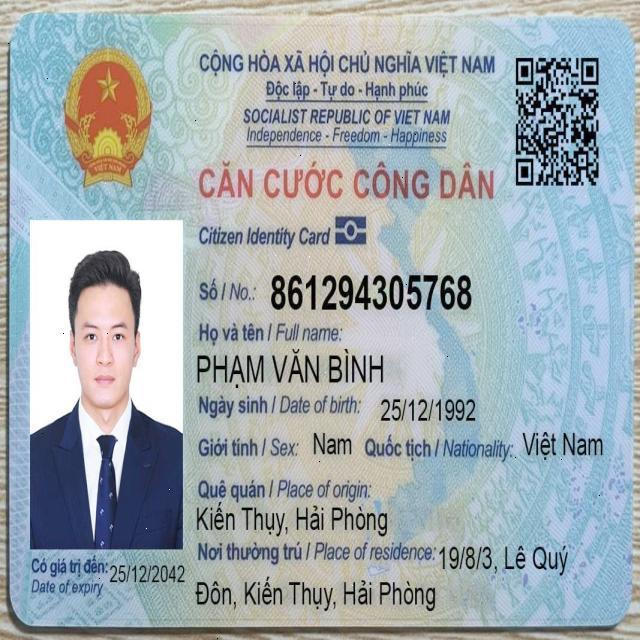current_place: (193, 572, 437, 616), (437, 542, 571, 579)
dob: (378, 395, 478, 426)
expire_date: (107, 560, 187, 589)
gender: (310, 427, 354, 461)
id: (267, 267, 476, 319)
name: (194, 345, 388, 392)
nationality: (520, 428, 605, 465)
origin_place: (193, 498, 389, 541)
